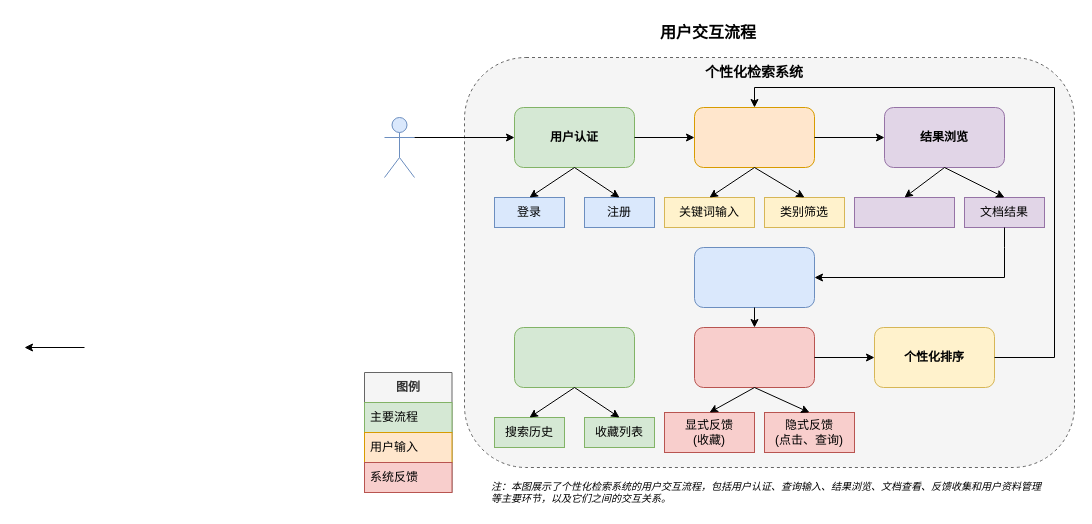
The diagram is 1092 pixels wide and 524 high, and some of its shapes have lost their labels. The shapes that lost their labels are listed below. From the top down, each one's centre as x and y in pixels, then its label:
(x=399, y=147): 用户
(x=754, y=137): 查询输入
(x=904, y=212): RAG增强回答
(x=754, y=277): 文档查看
(x=574, y=357): 用户资料
(x=754, y=357): 反馈收集
